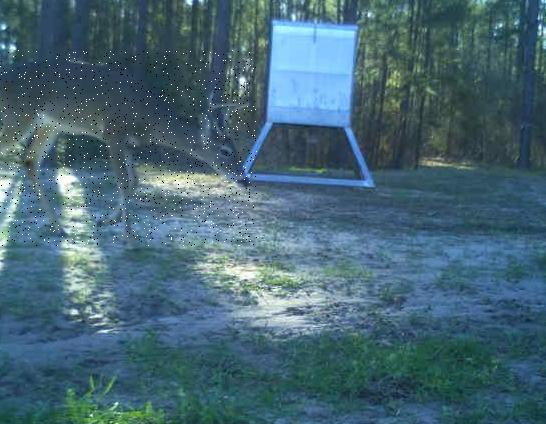Deer: (0, 50, 257, 246)
